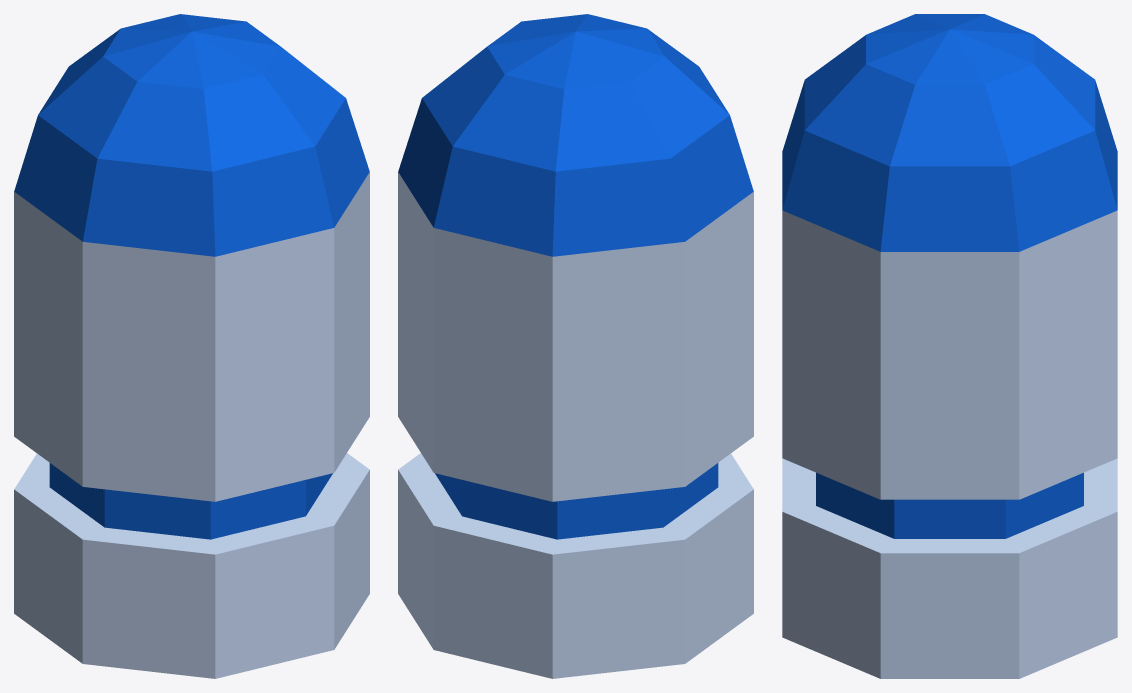
The model's file is Mortar_Shell_1.fbx.
3 renders of one model, left to right at view 1: azimuth 30°, elevation 25°; view 2: azimuth 150°, elevation 25°; view 3: azimuth 270°, elevation 25°, orthographic.
Visible parts, largest first — view 1: MortarShell1; view 2: MortarShell1; view 3: MortarShell1.
Boxes of the visible parts, <box> form: MortarShell1: <box>14,14,369,678</box>; MortarShell1: <box>398,14,753,678</box>; MortarShell1: <box>782,14,1117,678</box>.
Size of the model in its own units: 8.02 by 15.27 by 8.02.
1 material, 1 textured.
